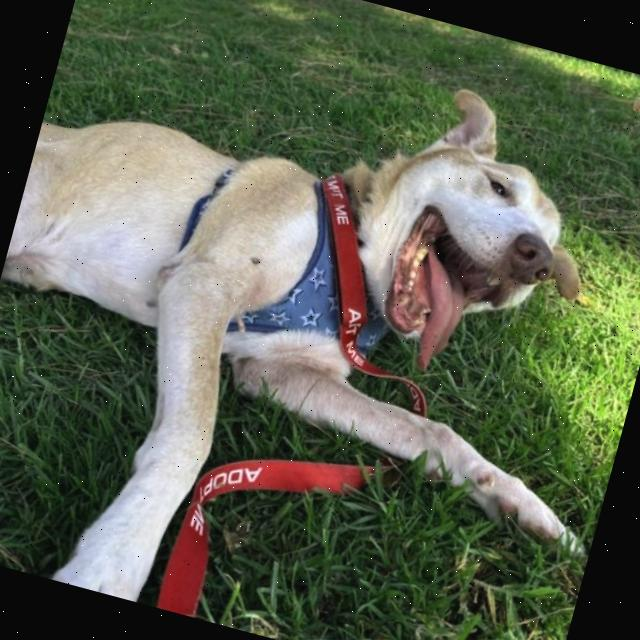labrador_retriever_dog: (282, 23, 640, 417)
